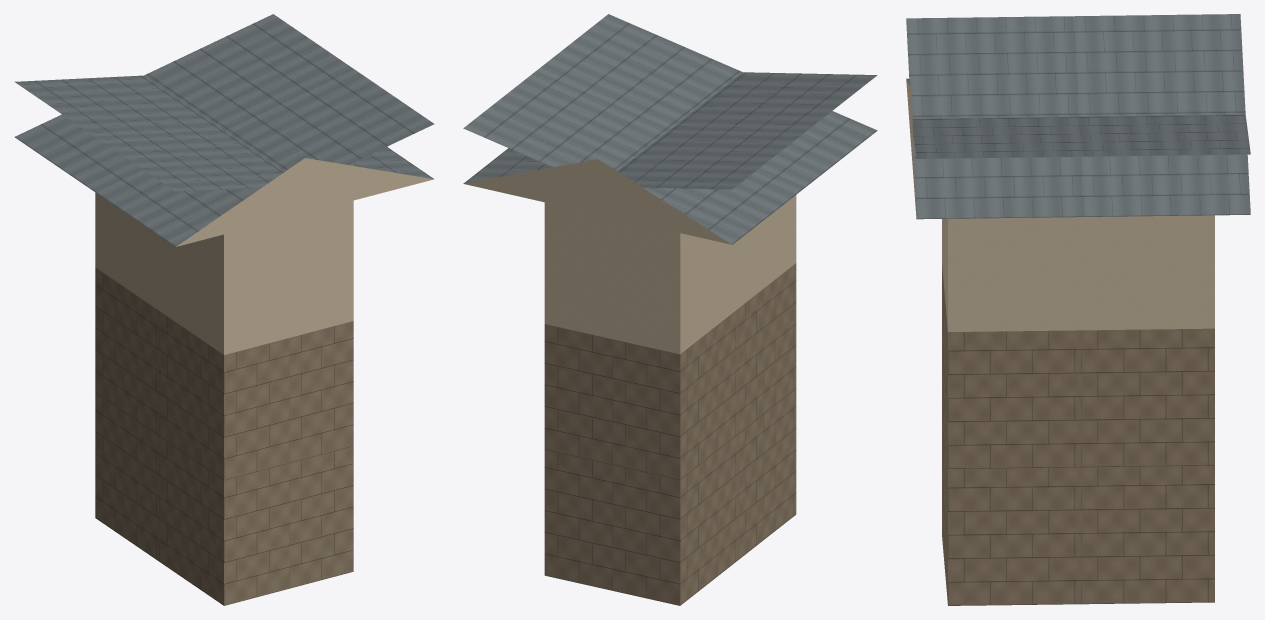
Rendered from bld_c21_24_464.gltf.
3 renders of one model, left to right at view 1: azimuth 30°, elevation 25°; view 2: azimuth 150°, elevation 25°; view 3: azimuth 270°, elevation 25°, orthographic. The views are drawn at different scales.
Parts seen in each view (by area): view 1: bld_c21_24_464; view 2: bld_c21_24_464; view 3: bld_c21_24_464.
Boxes of the visible parts, bbox=[...] form: bld_c21_24_464: bbox=[14, 14, 434, 605]; bld_c21_24_464: bbox=[463, 14, 877, 605]; bld_c21_24_464: bbox=[906, 14, 1250, 605].
Bounding box in the file's own units: 5.15 × 8 × 5.18.
Materials: 4 (4 with a texture image).
